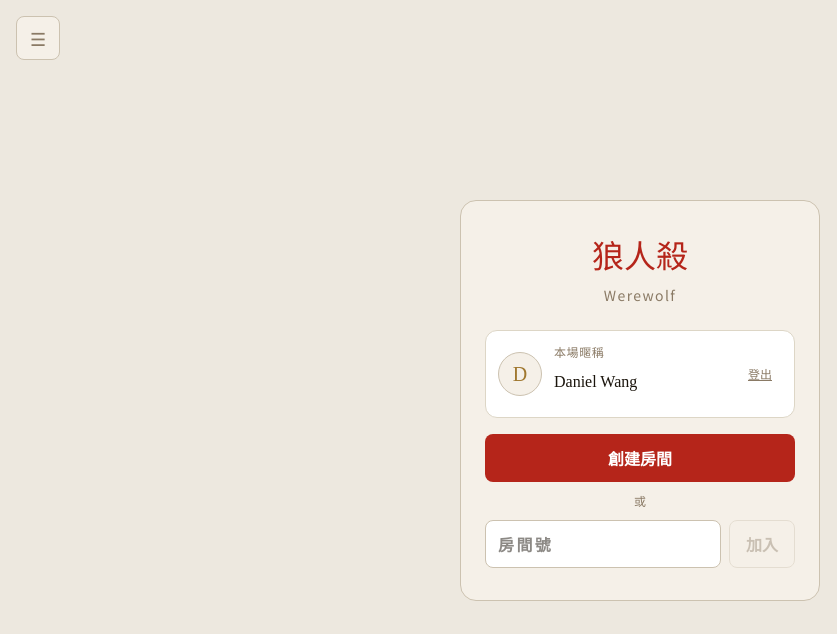
Scenario: LobbyView OAuth UI › shows the backend join reason (Room is full)
Step 1. Type "123" into the field with test id "room-code-input" → (603, 544), box [485,520,721,568]
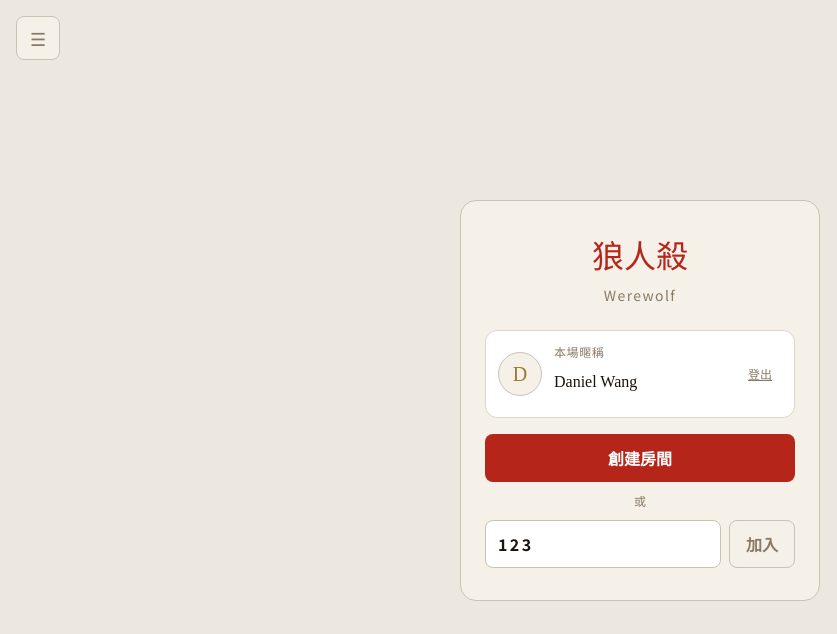
Step 2. Click the button with test id "join-room-btn" → click(762, 544), box [729,520,795,568]
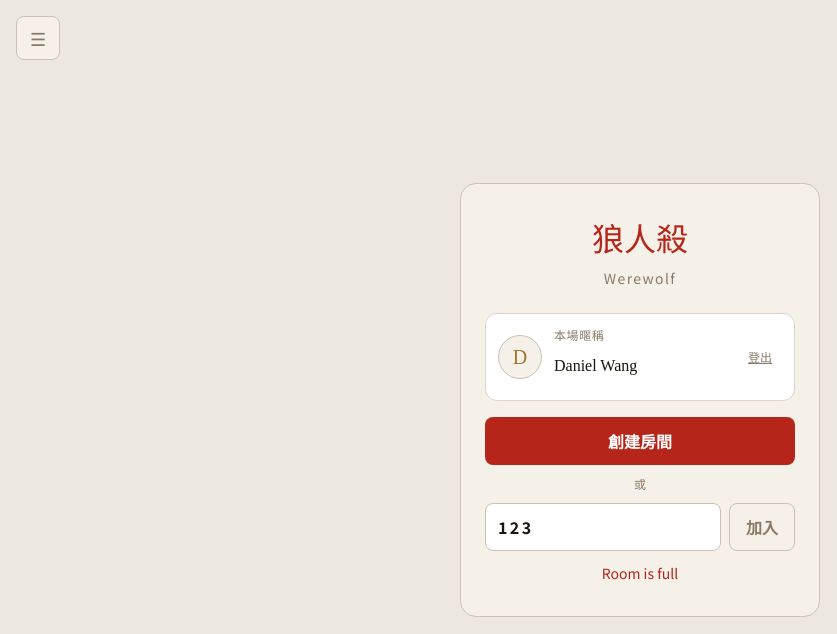
Expected: the text with test id "lobby-error" reads "Room is full", [602,563,678,583]
